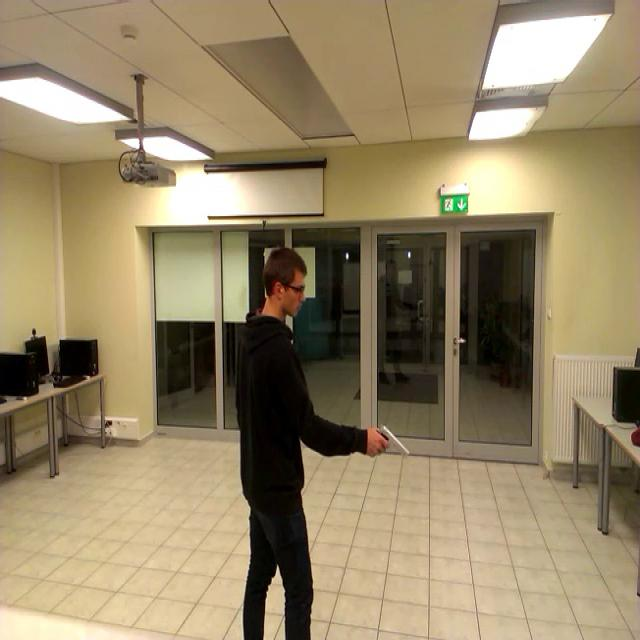handgun: (374, 418, 412, 465)
